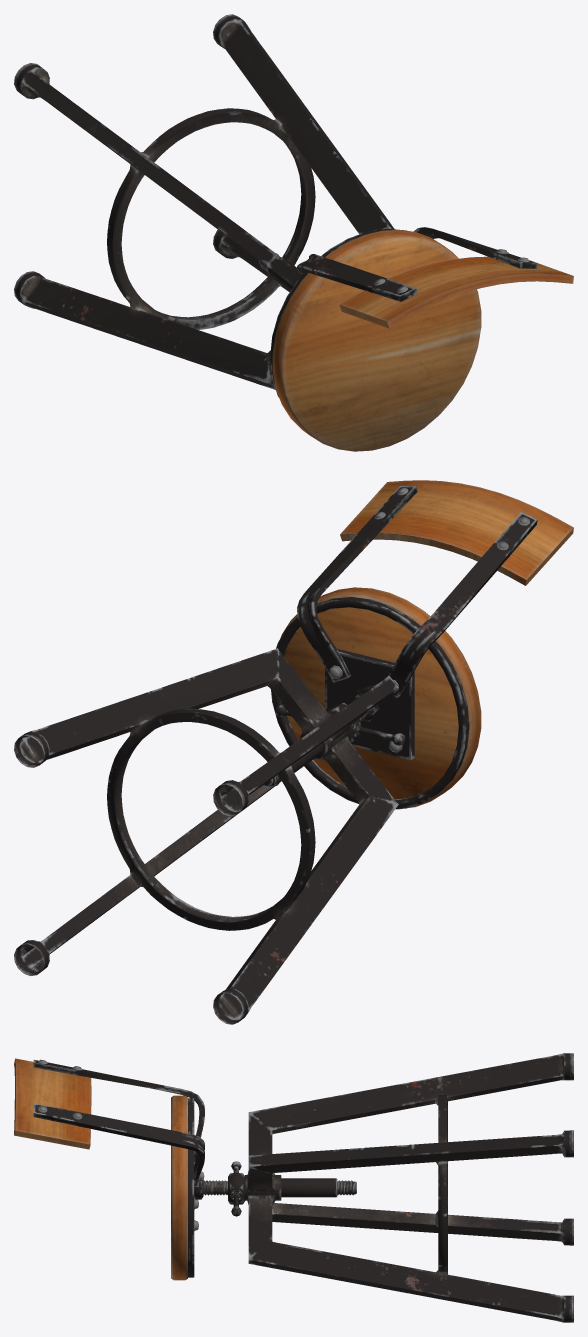
The model's file is bar-stool-e319d6.glb.
The picture shows the model from 3 angles, top to bottom: view 1: azimuth 30°, elevation 25°; view 2: azimuth 150°, elevation 25°; view 3: azimuth 270°, elevation 25°; orthographic projection. The views are drawn at different scales.
Parts seen in each view (by area): view 1: PropMesh; view 2: PropMesh; view 3: PropMesh.
Boxes of the visible parts, x1=… form: PropMesh: x1=14, y1=14, x2=573, y2=451; PropMesh: x1=14, y1=480, x2=573, y2=1024; PropMesh: x1=14, y1=1053, x2=573, y2=1322.
Bounding box in the file's own units: 2.06 × 2.2 × 5.51.
1 material, 1 textured.
